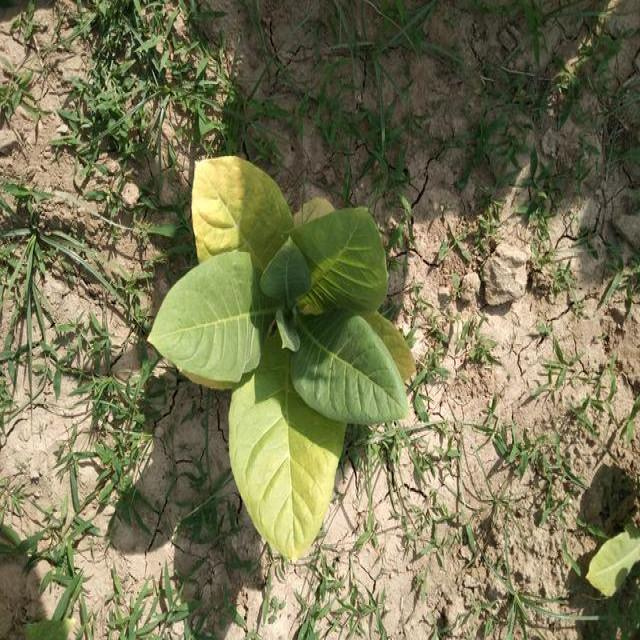crop: (145, 140, 415, 562)
